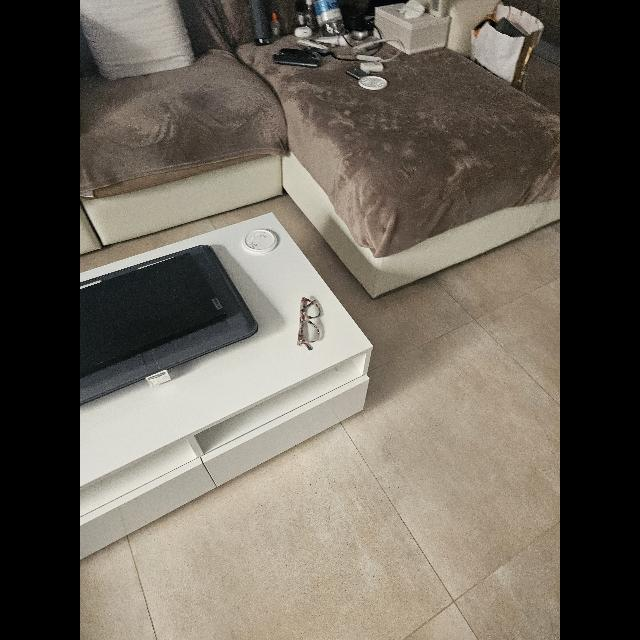glasses: (297, 298, 321, 350)
